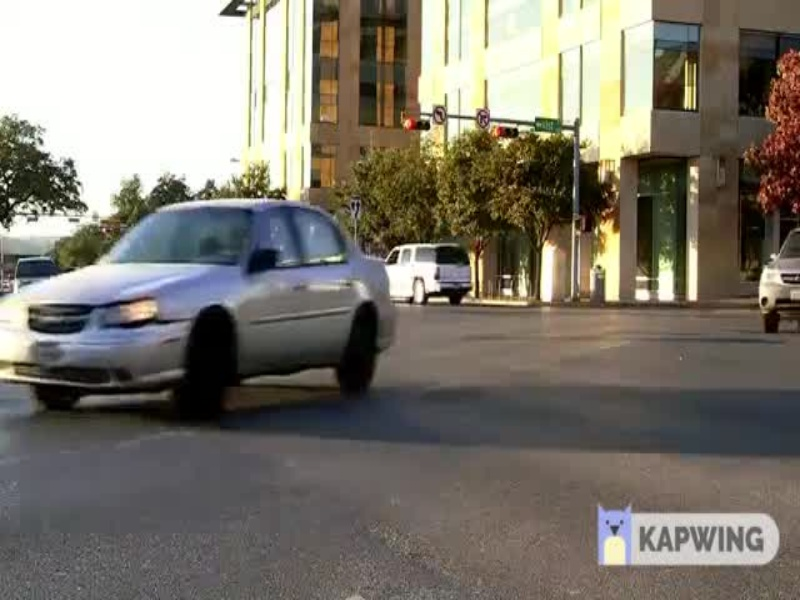car: (1, 194, 395, 437), (377, 235, 481, 316)
